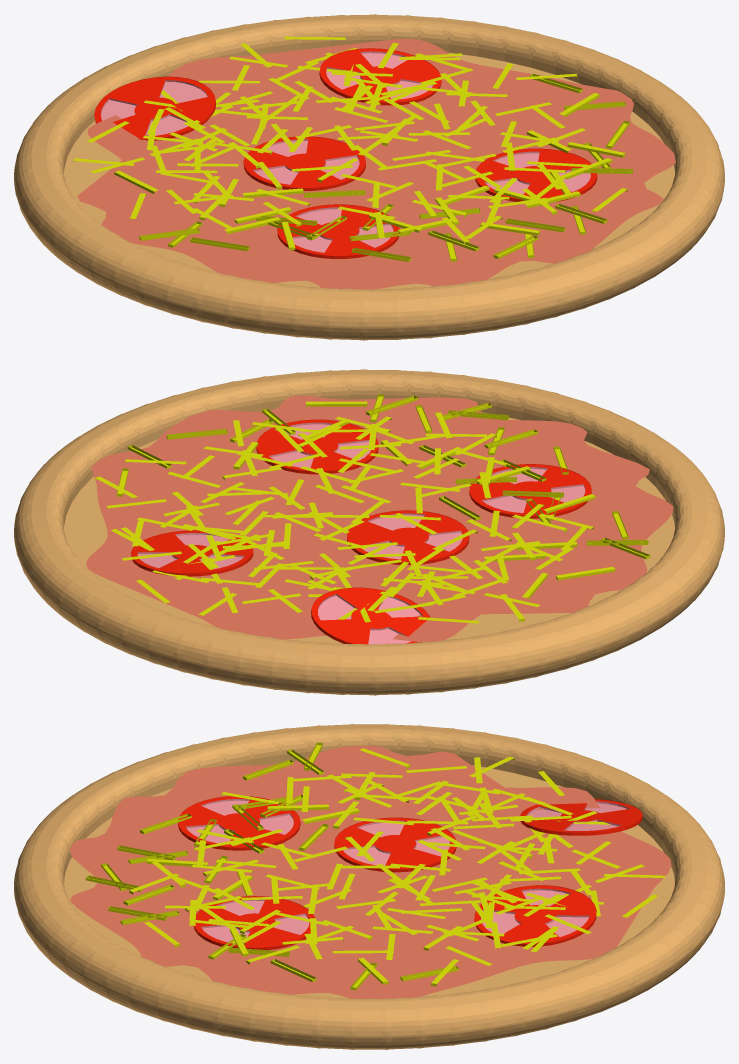
The model's file is pwct.fbx.
The picture shows the model from 3 angles, top to bottom: view 1: azimuth 30°, elevation 25°; view 2: azimuth 150°, elevation 25°; view 3: azimuth 270°, elevation 25°; orthographic projection.
Parts seen in each view (by area): view 1: pwct; view 2: pwct; view 3: pwct.
Boxes of the visible parts, x1,y1,x2,y2 form: pwct: (14,14,724,340); pwct: (14,369,724,695); pwct: (14,724,724,1049).
Size of the model in its own units: 232 by 19.76 by 232.
